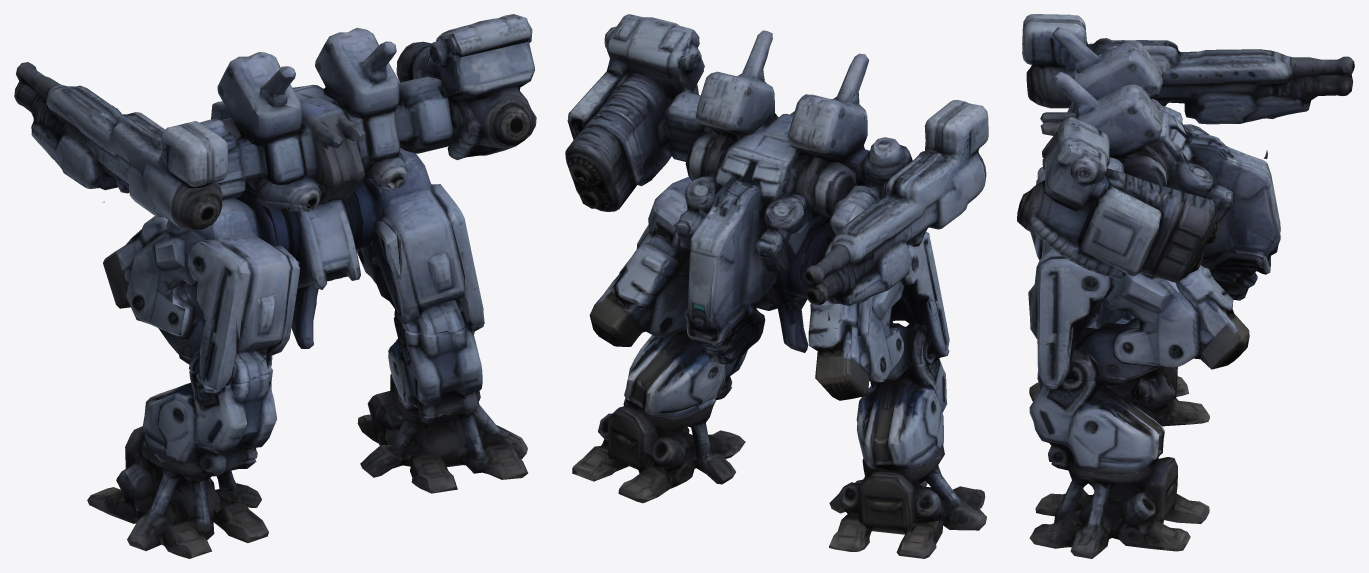
File: hero_l3.glb
The picture shows the model from 3 angles, left to right: view 1: azimuth 30°, elevation 25°; view 2: azimuth 150°, elevation 25°; view 3: azimuth 270°, elevation 25°; orthographic projection. The views are drawn at different scales.
Parts seen in each view (by area): view 1: hull, thigh_l, weapon_l, thigh_r, foot_l, weapon_r, foot_r, shin_l, shin_r, pelvis; view 2: hull, weapon_l, weapon_r, thigh_l, foot_r, foot_l, thigh_r, shin_l, shin_r, pelvis; view 3: hull, thigh_r, weapon_r, weapon_l, foot_r, shin_r, foot_l.
Boxes of the visible parts, x1=… form: hull: x1=200, y1=27, x2=462, y2=348; thigh_l: x1=103, y1=181, x2=300, y2=389; weapon_l: x1=14, y1=62, x2=228, y2=230; thigh_r: x1=356, y1=148, x2=484, y2=334; foot_l: x1=87, y1=426, x2=268, y2=558; weapon_r: x1=396, y1=14, x2=536, y2=160; foot_r: x1=357, y1=374, x2=527, y2=493; shin_l: x1=142, y1=354, x2=276, y2=473; shin_r: x1=388, y1=316, x2=483, y2=416; pelvis: x1=244, y1=174, x2=400, y2=279; hull: x1=663, y1=30, x2=912, y2=364; weapon_l: x1=804, y1=100, x2=988, y2=328; weapon_r: x1=565, y1=14, x2=704, y2=211; thigh_l: x1=768, y1=215, x2=949, y2=400; foot_r: x1=572, y1=386, x2=745, y2=503; foot_l: x1=829, y1=446, x2=986, y2=558; thigh_r: x1=589, y1=176, x2=691, y2=346; shin_l: x1=856, y1=349, x2=949, y2=471; shin_r: x1=624, y1=327, x2=747, y2=414; pelvis: x1=673, y1=222, x2=821, y2=297; hull: x1=1040, y1=27, x2=1280, y2=328; thigh_r: x1=1028, y1=248, x2=1249, y2=385; weapon_r: x1=1017, y1=117, x2=1220, y2=282; weapon_l: x1=1022, y1=14, x2=1354, y2=158; foot_r: x1=1029, y1=457, x2=1209, y2=558; shin_r: x1=1029, y1=372, x2=1164, y2=474; foot_l: x1=1029, y1=366, x2=1209, y2=426.
Size of the model in its own units: 2.96 by 3.19 by 2.32.
Materials: 1 (1 with a texture image).
